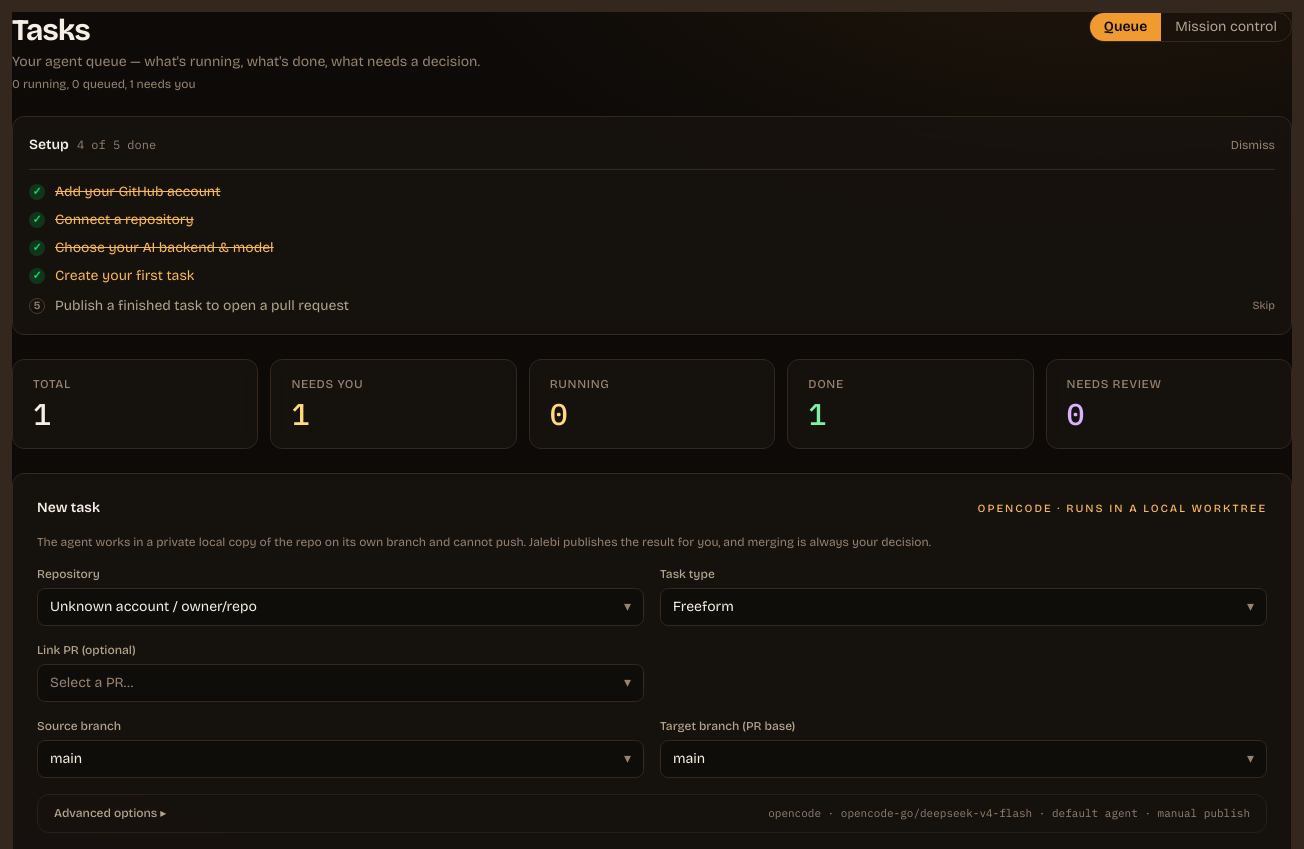
Scenario: Tasks › freeform can link a PR (e.g. to implement its review comments)
Expected: the heading "New task" is shown, [37, 498, 100, 518]
Click the button with aria-label "Link PR (optional)".
click(92, 682)  # box [37, 664, 644, 702]
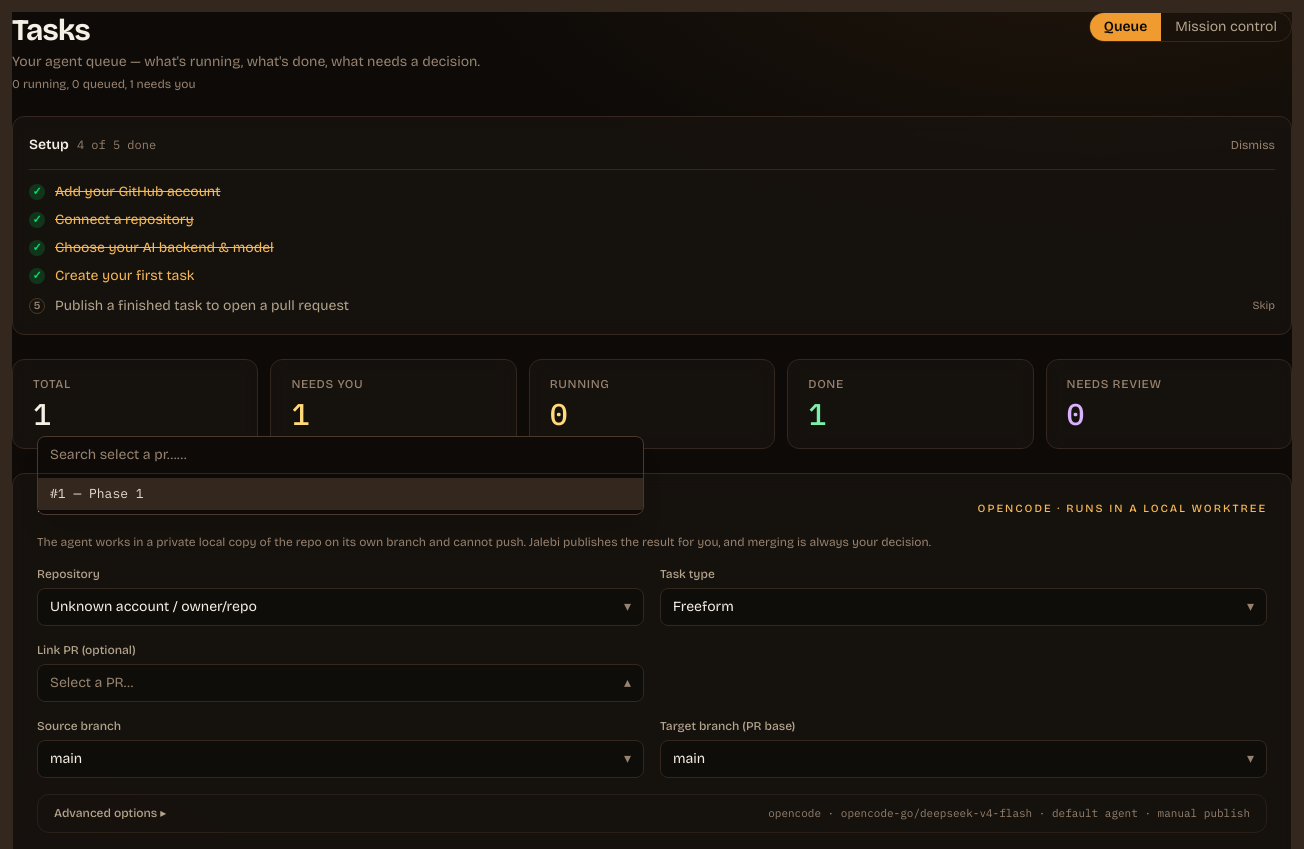
Now the option "#1 — Phase 1" is shown
Click the option "#1 — Phase 1".
click(97, 494)  # box [38, 478, 643, 510]
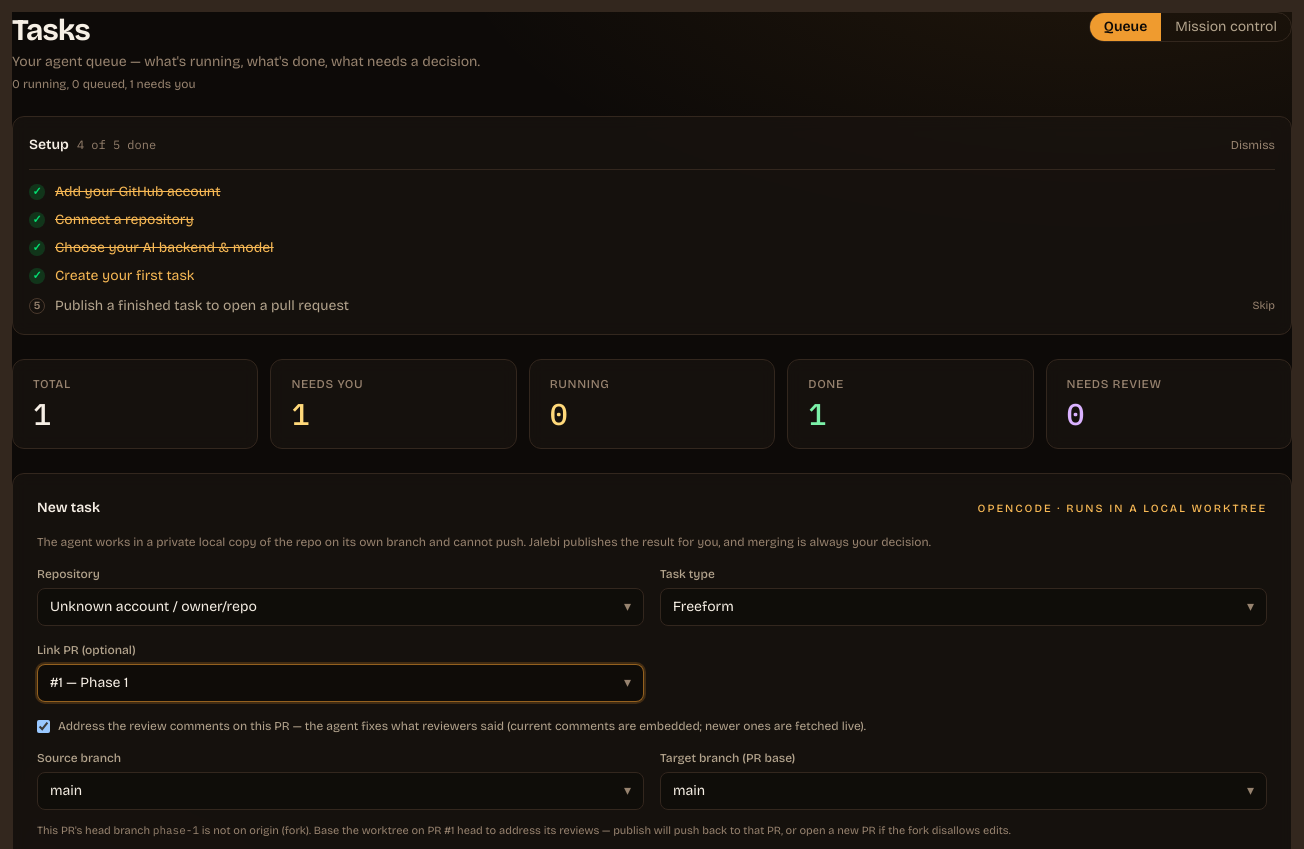
Now the button with aria-label "Link PR (optional)" shows "#1", box [37, 664, 644, 702]
